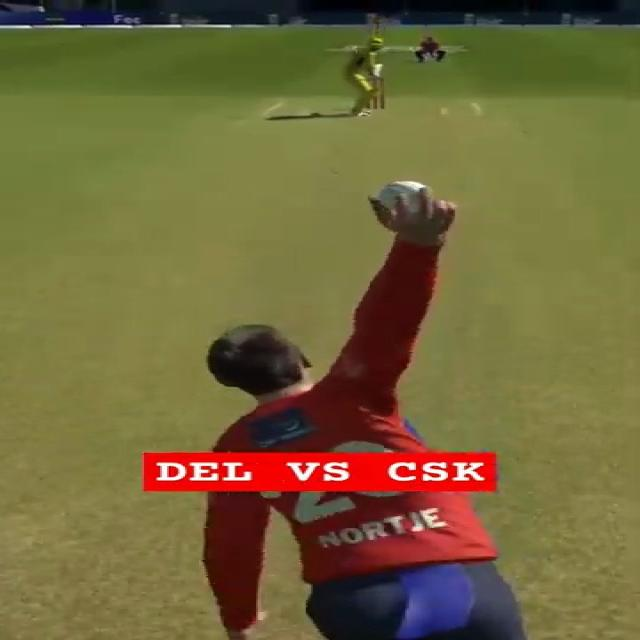ball: (373, 179, 432, 208)
